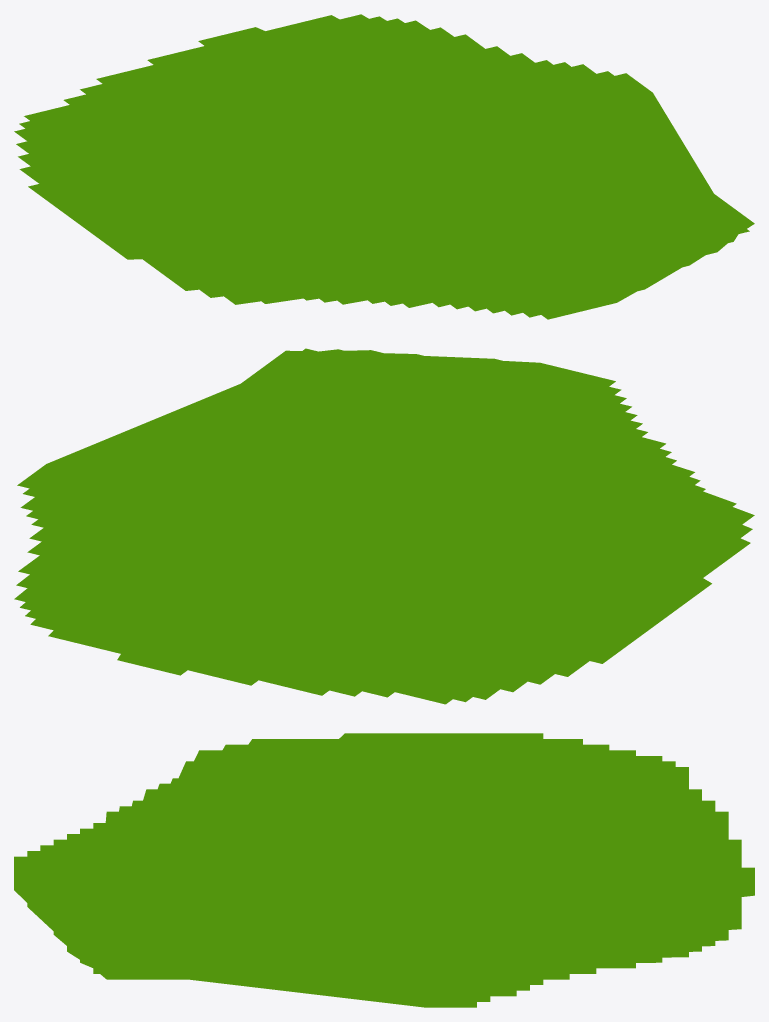
The model's file is PLATEAU_GROUND.fbx.
The picture shows the model from 3 angles, top to bottom: view 1: azimuth 30°, elevation 25°; view 2: azimuth 150°, elevation 25°; view 3: azimuth 270°, elevation 25°; orthographic projection. The views are drawn at different scales.
Visible parts, largest first — view 1: PLATEAU_GROUND; view 2: PLATEAU_GROUND; view 3: PLATEAU_GROUND.
Boxes of the visible parts, x1,y1,x2,y2 form: PLATEAU_GROUND: (14, 14, 754, 319); PLATEAU_GROUND: (14, 348, 754, 704); PLATEAU_GROUND: (14, 733, 754, 1007).
Size of the model in its own units: 2317 by 0 by 2648.
